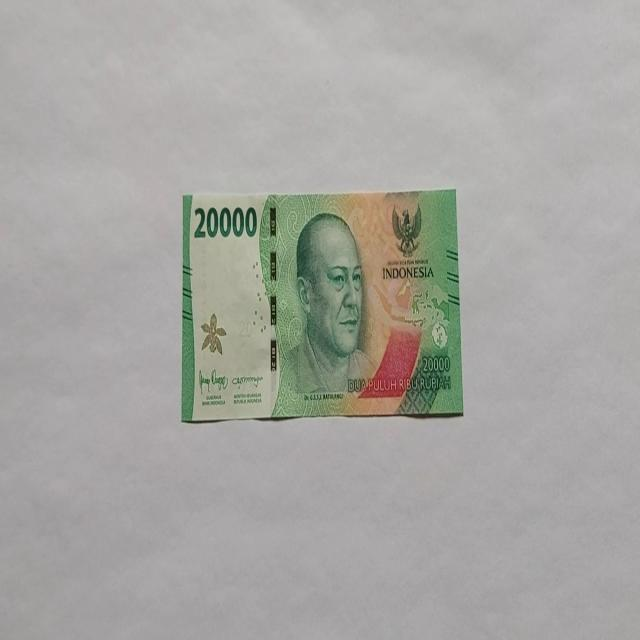dua puluh ribu rupiah: (181, 186, 464, 424), (271, 210, 377, 416)
